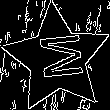M_W: (30, 33, 84, 84)
